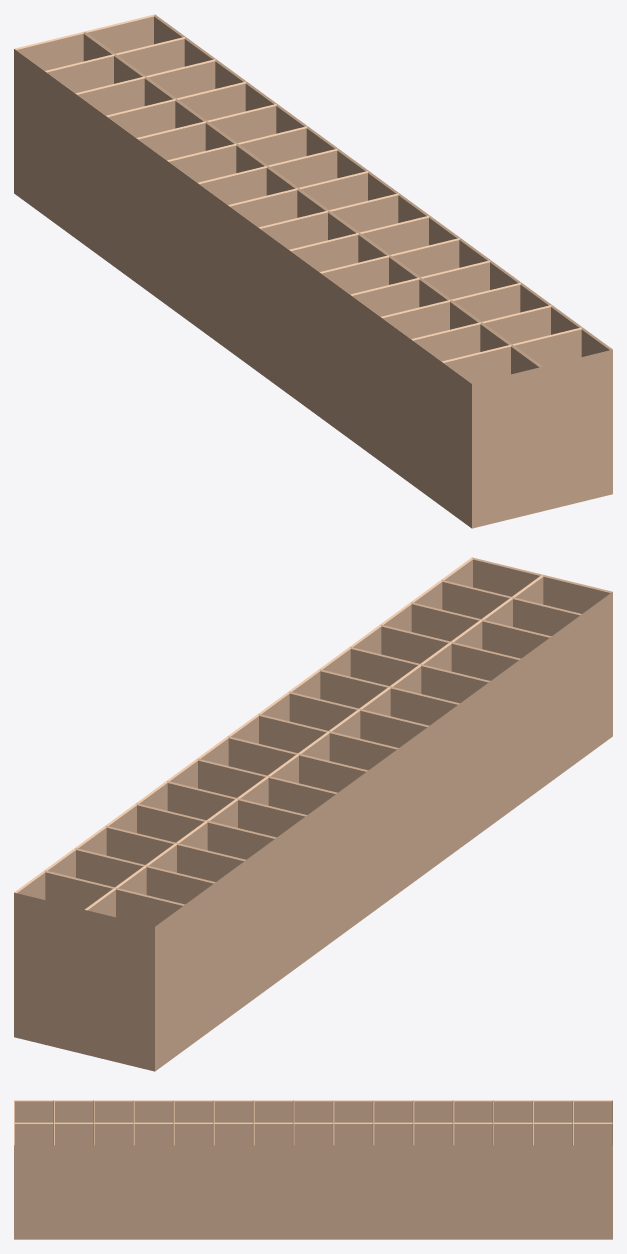
File: RAM_4.fbx
The picture shows the model from 3 angles, top to bottom: view 1: azimuth 30°, elevation 25°; view 2: azimuth 150°, elevation 25°; view 3: azimuth 270°, elevation 25°; orthographic projection. The views are drawn at different scales.
Parts seen in each view (by area): view 1: RAM_5; view 2: RAM_5; view 3: RAM_5.
Part boxes in pixels (x1,y1,x2,y2): RAM_5: [14, 14, 612, 528]; RAM_5: [14, 557, 612, 1071]; RAM_5: [14, 1100, 612, 1239].
Bounding box in the file's own units: 477 × 468 × 2685.
